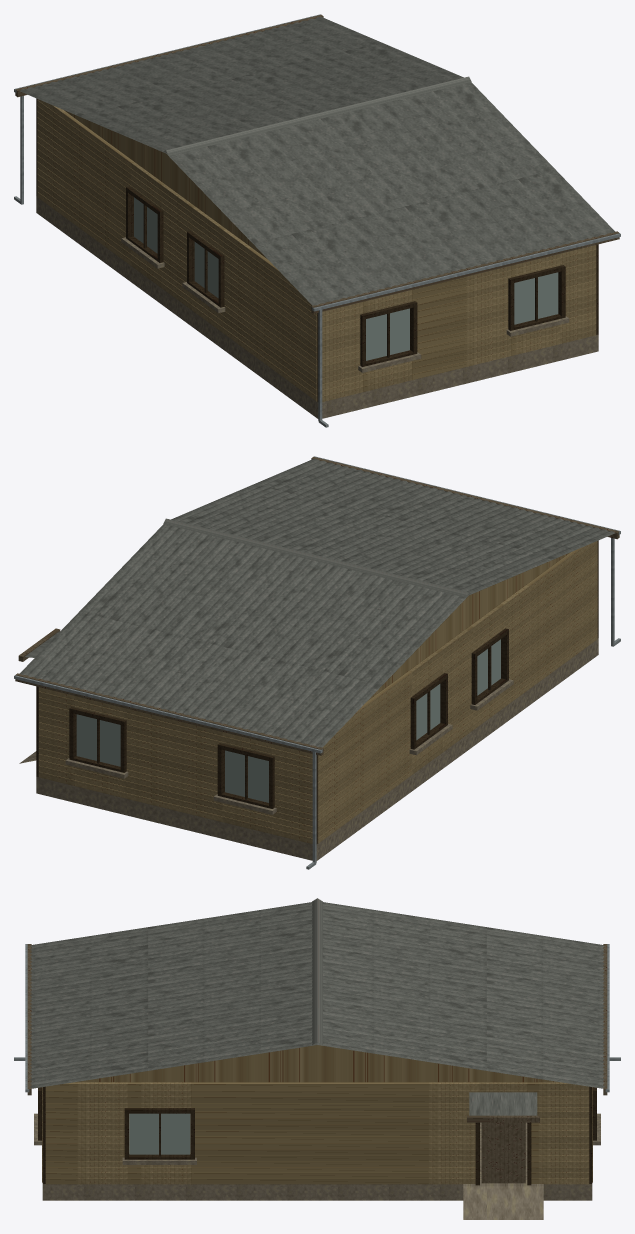
The picture shows the model from 3 angles, top to bottom: view 1: azimuth 30°, elevation 25°; view 2: azimuth 150°, elevation 25°; view 3: azimuth 270°, elevation 25°; orthographic projection. The views are drawn at different scales.
Parts seen in each view (by area): view 1: H03_CHAPAS_ONDULADAS, H03_FUNDOS, H03_LATERAIS, H03_FUNDACAO, H03_VIDROS_RECUADOS, H03_CAIXILHOS, H03_OITOES, H03_BEIRAIS, H03_CUMEEIRA, H03_CALHA, H03_PEITORIS, H03_CONDUTOR_PLUVIAL (+2 smaller); view 2: H03_CHAPAS_ONDULADAS, H03_FUNDOS, H03_LATERAIS, H03_FUNDACAO, H03_VIDROS_RECUADOS, H03_CAIXILHOS, H03_OITOES, H03_BEIRAIS, H03_CUMEEIRA, H03_CALHA, H03_PEITORIS, H03_CONDUTOR_PLUVIAL (+2 smaller); view 3: H03_CHAPAS_ONDULADAS, H03_FACHADA, H03_OITOES, H03_FUNDACAO, H03_PORTA_FOLHA, H03_RAMPA, H03_VIDROS_RECUADOS, H03_CAIXILHOS, H03_ALPENDRE_COBERTURA, H03_CUMEEIRA, H03_BEIRAIS, H03_CALHA (+4 smaller).
Boxes of the visible parts, bbox=[...] form: H03_CHAPAS_ONDULADAS: bbox=[19, 17, 615, 305]; H03_FUNDOS: bbox=[37, 99, 317, 401]; H03_LATERAIS: bbox=[322, 245, 596, 401]; H03_FUNDACAO: bbox=[36, 196, 598, 418]; H03_VIDROS_RECUADOS: bbox=[134, 197, 558, 360]; H03_CAIXILHOS: bbox=[126, 186, 565, 366]; H03_OITOES: bbox=[64, 110, 266, 258]; H03_BEIRAIS: bbox=[15, 14, 619, 313]; H03_CUMEEIRA: bbox=[164, 76, 471, 155]; H03_CALHA: bbox=[14, 14, 620, 311]; H03_PEITORIS: bbox=[121, 237, 569, 372]; H03_CONDUTOR_PLUVIAL: bbox=[20, 96, 322, 421]; H03_CHAPAS_ONDULADAS: bbox=[19, 459, 615, 747]; H03_FUNDOS: bbox=[317, 541, 597, 843]; H03_LATERAIS: bbox=[38, 687, 312, 843]; H03_FUNDACAO: bbox=[36, 638, 598, 860]; H03_VIDROS_RECUADOS: bbox=[76, 639, 500, 802]; H03_CAIXILHOS: bbox=[69, 628, 508, 808]; H03_OITOES: bbox=[368, 552, 570, 700]; H03_BEIRAIS: bbox=[15, 456, 619, 755]; H03_CUMEEIRA: bbox=[163, 518, 470, 597]; H03_CALHA: bbox=[14, 456, 620, 753]; H03_PEITORIS: bbox=[65, 679, 513, 814]; H03_CONDUTOR_PLUVIAL: bbox=[312, 538, 614, 863]; H03_CHAPAS_ONDULADAS: bbox=[30, 902, 604, 1088]; H03_FACHADA: bbox=[45, 1082, 589, 1184]; H03_OITOES: bbox=[75, 1045, 559, 1082]; H03_FUNDACAO: bbox=[42, 1114, 592, 1200]; H03_PORTA_FOLHA: bbox=[481, 1122, 525, 1183]; H03_RAMPA: bbox=[463, 1186, 543, 1219]; H03_VIDROS_RECUADOS: bbox=[129, 1113, 190, 1154]; H03_CAIXILHOS: bbox=[38, 1087, 596, 1159]; H03_ALPENDRE_COBERTURA: bbox=[469, 1092, 537, 1115]; H03_CUMEEIRA: bbox=[312, 898, 322, 1044]; H03_BEIRAIS: bbox=[27, 944, 607, 1095]; H03_CALHA: bbox=[25, 944, 609, 1092].
Bounding box in the file's own units: 8.97 × 4.28 × 14.34.
8 materials, 7 textured.
